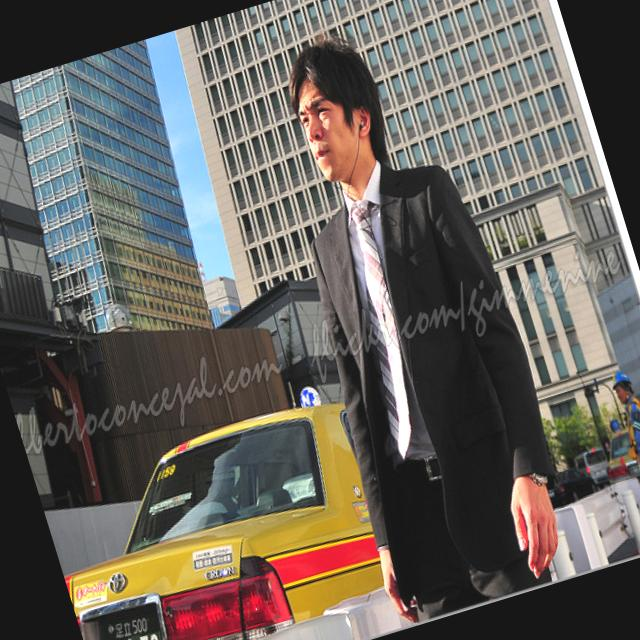Vehicle: (34, 387, 407, 640), (595, 425, 640, 491), (544, 462, 598, 508), (574, 446, 613, 491)
